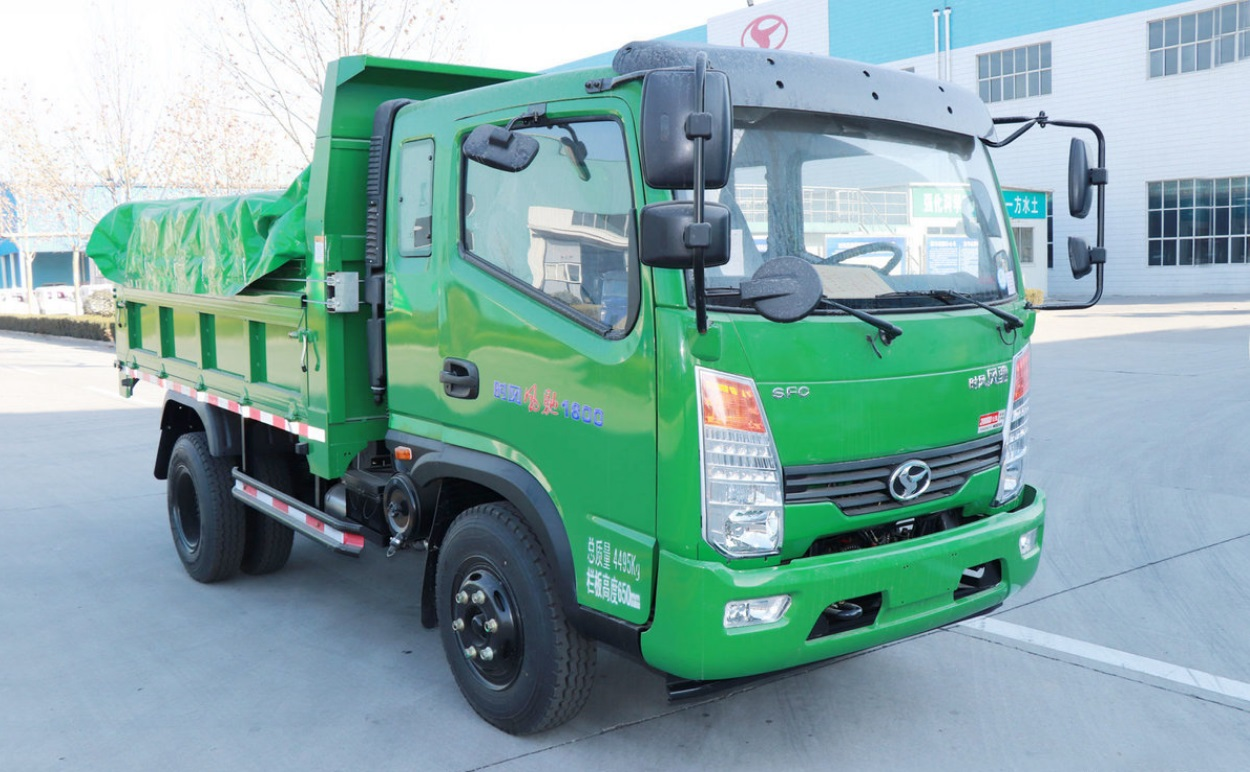truck: (85, 37, 1111, 746)
